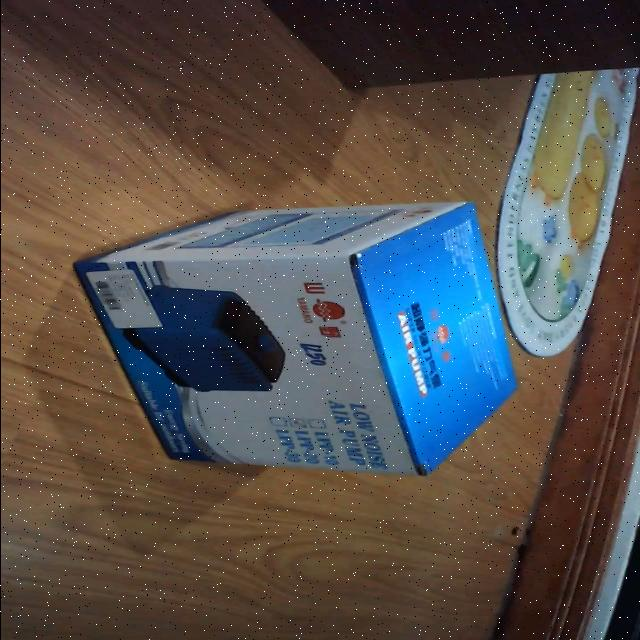YAMANO_LPP_20: (58, 197, 532, 493)
